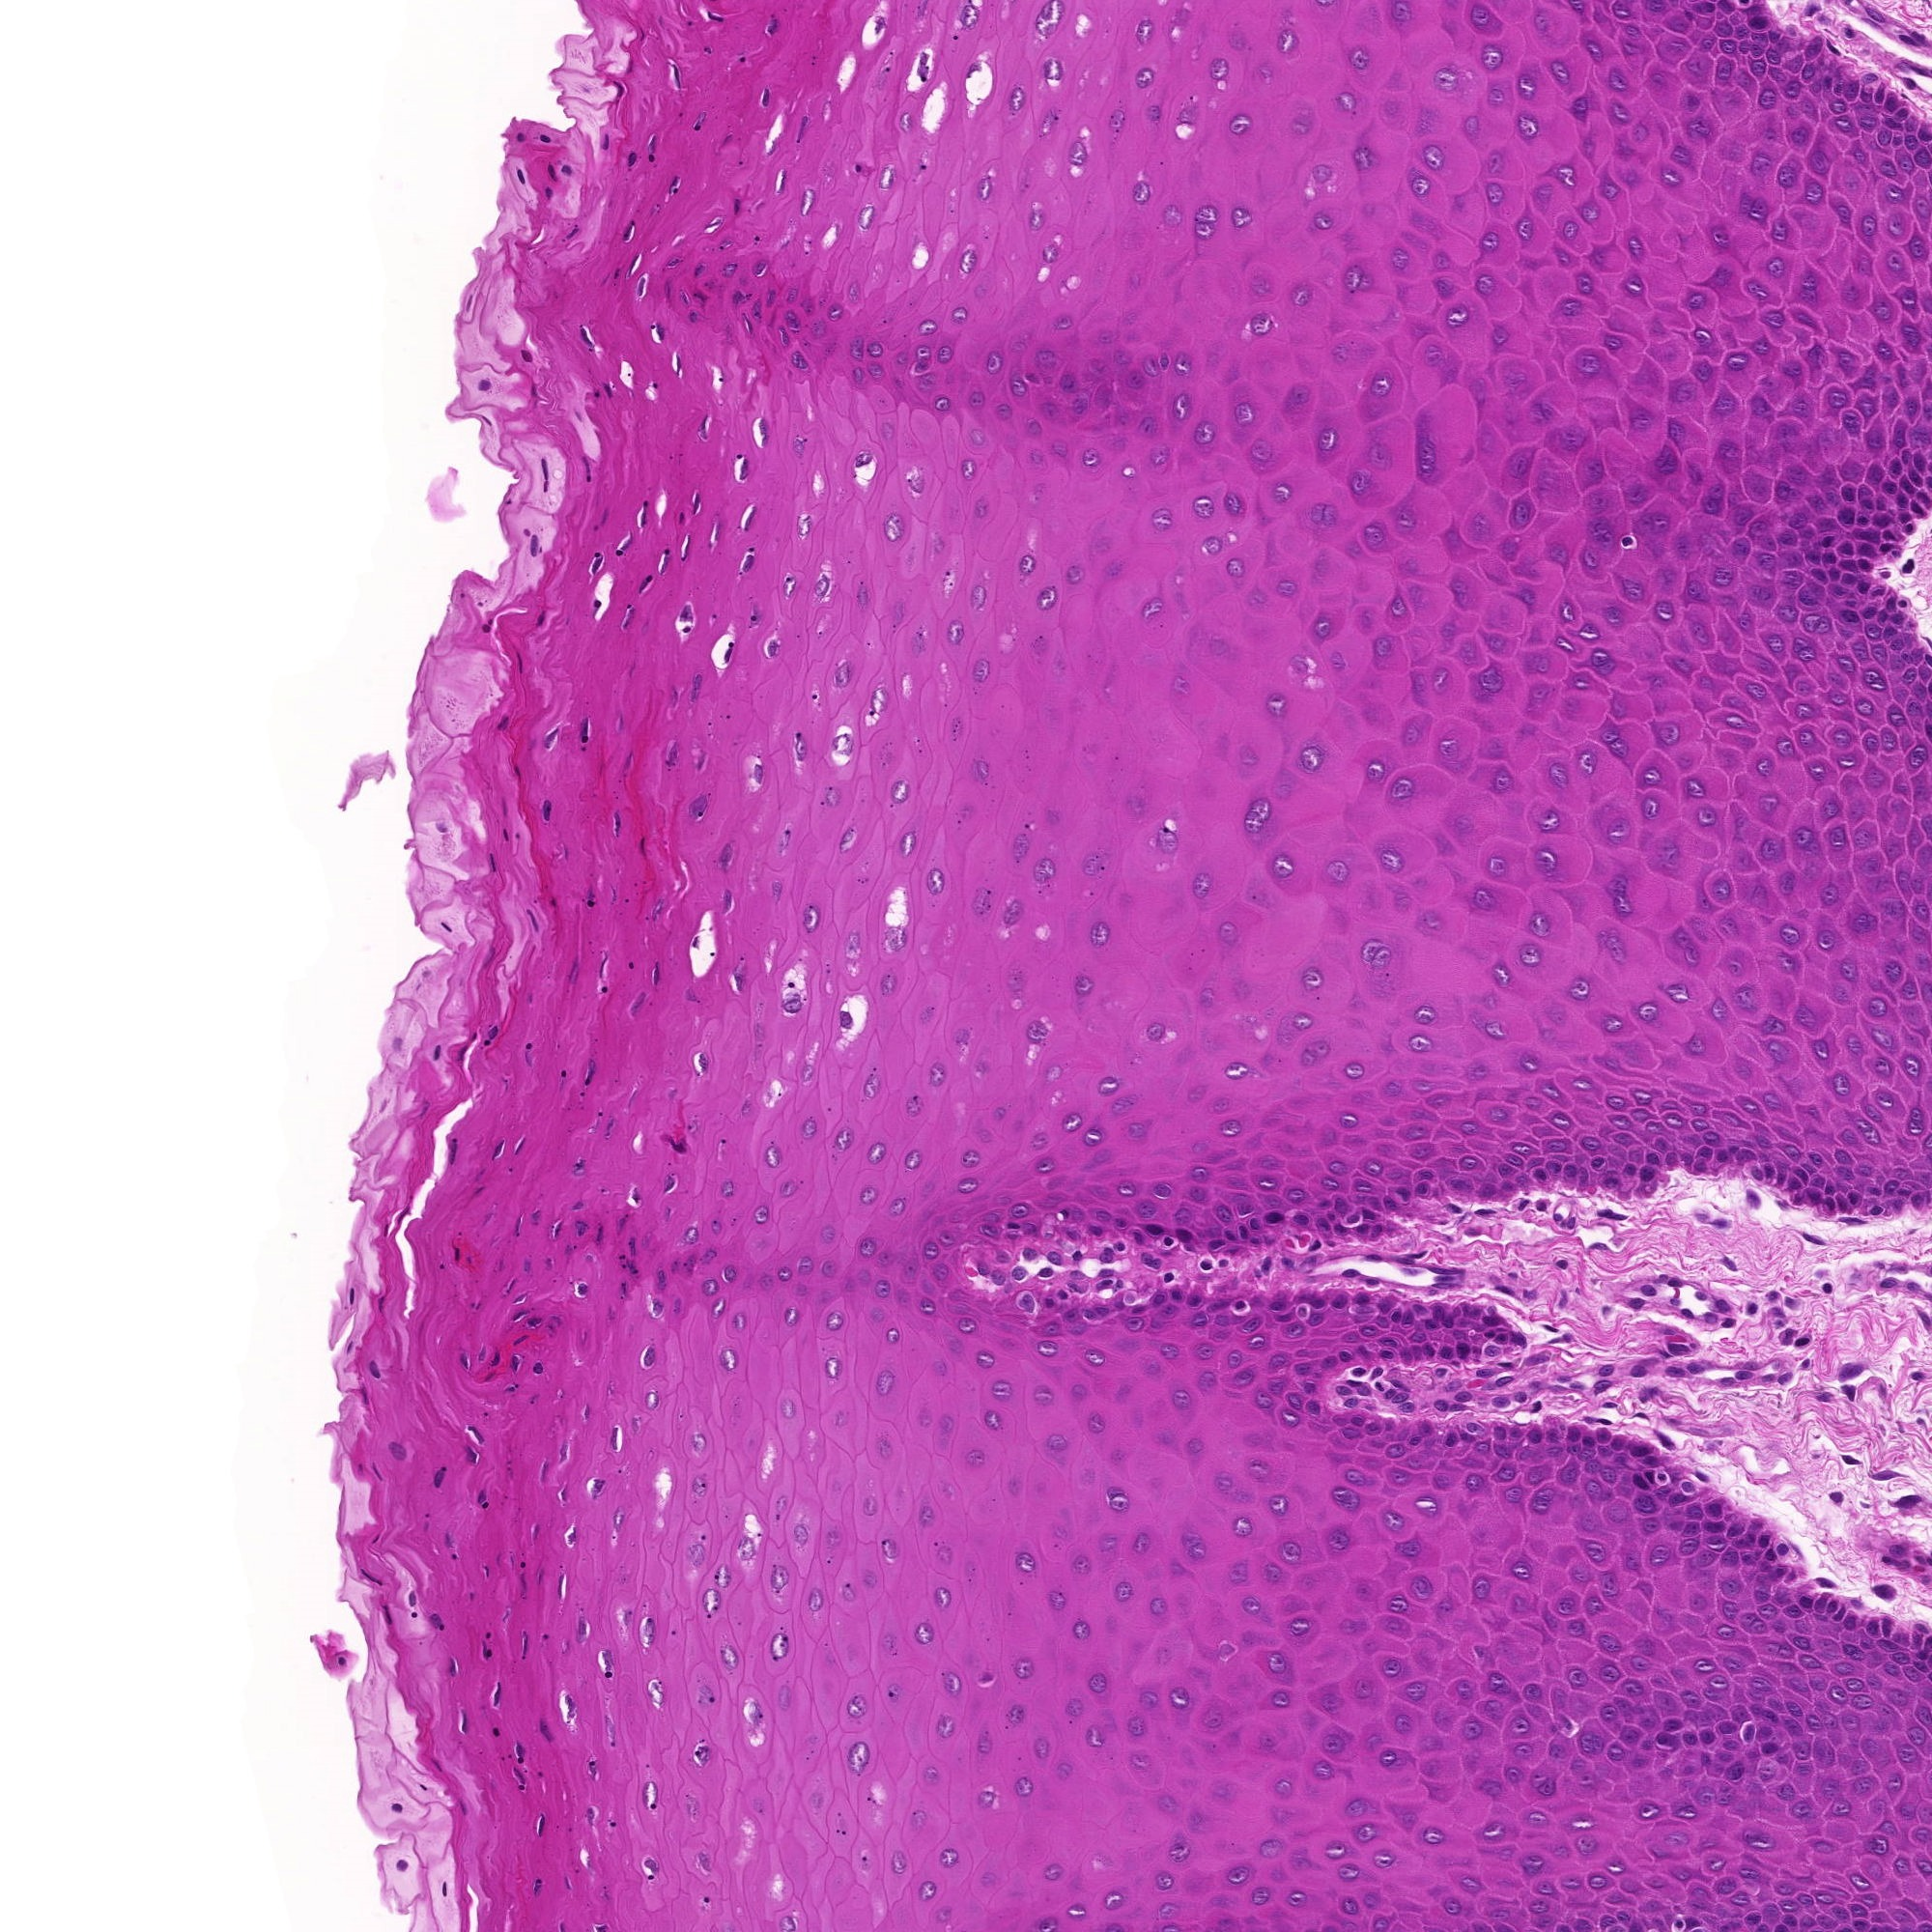epithelial: (1028, 855, 1062, 886), (1196, 1293, 1230, 1325), (1325, 1522, 1357, 1555), (1874, 115, 1905, 149), (1773, 536, 1805, 570), (1782, 1164, 1815, 1196), (1828, 1178, 1861, 1210), (1867, 591, 1902, 621), (448, 1345, 479, 1376), (364, 1286, 396, 1318), (446, 1790, 478, 1822), (906, 349, 938, 380), (625, 271, 656, 303), (518, 375, 550, 407), (487, 708, 518, 740), (828, 658, 860, 690), (920, 865, 952, 897), (892, 826, 924, 858), (685, 747, 717, 778), (867, 1272, 899, 1304), (481, 1132, 513, 1164), (711, 1173, 743, 1205), (768, 1258, 800, 1290), (633, 1341, 665, 1373), (527, 1307, 559, 1339), (711, 1346, 743, 1378), (895, 1143, 927, 1175), (793, 1111, 824, 1143), (863, 1138, 895, 1169), (932, 1840, 964, 1872), (741, 1698, 773, 1730), (543, 1569, 575, 1601), (870, 1527, 902, 1559), (685, 1468, 717, 1500), (761, 1564, 793, 1596), (548, 1477, 580, 1509), (1120, 364, 1152, 396), (1164, 389, 1196, 421), (1408, 428, 1440, 460), (1408, 414, 1440, 446), (1362, 364, 1394, 396), (1224, 110, 1256, 142), (1106, 402, 1138, 433), (1307, 432, 1339, 464), (1000, 81, 1031, 113), (1104, 343, 1136, 375), (1401, 669, 1433, 701), (1010, 548, 1042, 580), (1184, 870, 1215, 902), (1304, 550, 1336, 582), (1235, 794, 1267, 826), (1350, 603, 1382, 635), (1261, 690, 1293, 722), (1097, 554, 1129, 586), (1322, 648, 1353, 679), (1414, 1307, 1445, 1339), (1410, 1159, 1442, 1191), (1168, 1219, 1200, 1251), (1325, 1189, 1357, 1221), (1373, 1325, 1405, 1357), (1277, 1391, 1309, 1422), (1184, 1304, 1215, 1336), (1141, 1284, 1173, 1316), (1131, 1192, 1162, 1224), (1421, 1295, 1453, 1327), (1215, 1231, 1247, 1263), (1003, 1196, 1035, 1228), (1253, 1164, 1284, 1196), (1086, 1295, 1118, 1327), (1297, 1391, 1329, 1422), (1200, 1217, 1231, 1249), (1286, 1290, 1318, 1322), (1184, 1159, 1215, 1191), (1207, 1306, 1238, 1338), (1410, 1148, 1442, 1180), (1219, 1343, 1251, 1375), (1077, 1297, 1109, 1329), (1394, 1316, 1426, 1348), (1332, 1410, 1364, 1442), (1315, 1201, 1346, 1233), (1164, 1385, 1196, 1417), (1336, 1322, 1368, 1353), (1330, 1194, 1362, 1226), (1139, 1307, 1171, 1339), (1254, 1154, 1286, 1185), (1205, 1316, 1237, 1348), (1295, 1185, 1327, 1217), (1343, 1196, 1375, 1228), (1322, 1178, 1353, 1210), (1258, 1300, 1290, 1332), (1387, 1295, 1419, 1327), (1102, 1290, 1134, 1322), (1371, 1200, 1403, 1231), (1392, 1534, 1424, 1566), (1320, 1727, 1352, 1759), (1334, 1891, 1366, 1923), (1384, 1458, 1415, 1490), (1120, 1713, 1152, 1744), (1108, 1575, 1139, 1606), (1378, 1500, 1410, 1532), (1040, 1583, 1072, 1615), (1100, 1884, 1132, 1916), (1346, 1888, 1378, 1920), (1336, 1486, 1368, 1518), (1267, 1771, 1299, 1803), (1226, 1509, 1258, 1541), (1322, 1833, 1353, 1865), (1882, 421, 1914, 453), (1725, 16, 1757, 48), (1897, 453, 1928, 485), (1886, 444, 1918, 476), (1757, 39, 1789, 71), (1739, 34, 1771, 65), (1790, 55, 1822, 87), (1877, 124, 1909, 156), (1851, 106, 1882, 138), (1744, 331, 1776, 363), (1746, 389, 1778, 421), (1709, 433, 1741, 465), (1730, 184, 1762, 216), (1794, 265, 1826, 297), (1506, 449, 1537, 481), (1555, 290, 1587, 322), (1836, 278, 1868, 310), (1608, 134, 1640, 166), (1709, 387, 1741, 419), (1872, 152, 1904, 184), (1895, 113, 1927, 145), (1624, 402, 1656, 433), (1681, 460, 1713, 492), (1886, 359, 1918, 391), (1582, 239, 1614, 271), (1785, 391, 1817, 423), (1665, 136, 1697, 168), (1842, 138, 1874, 170), (1789, 303, 1821, 334), (1882, 205, 1914, 237), (1803, 50, 1835, 81), (1663, 30, 1695, 62), (1867, 92, 1898, 124), (1898, 464, 1930, 495), (1794, 92, 1826, 124), (1463, 5, 1495, 37), (1828, 103, 1859, 134), (1796, 62, 1828, 94), (1844, 361, 1875, 393), (1852, 203, 1884, 235), (1580, 37, 1612, 69), (1865, 287, 1897, 318), (1888, 370, 1920, 402), (1877, 343, 1909, 375), (1679, 94, 1711, 126), (1479, 76, 1511, 108), (1603, 78, 1635, 110), (1718, 9, 1750, 41), (1881, 373, 1913, 405), (1829, 460, 1861, 492), (1700, 57, 1732, 88), (1810, 525, 1842, 557), (1812, 510, 1844, 541), (1852, 596, 1884, 628), (1882, 603, 1914, 635), (1861, 488, 1893, 520), (1867, 600, 1898, 632), (1840, 518, 1872, 550), (1598, 596, 1629, 628), (1859, 573, 1891, 605), (1898, 738, 1930, 770), (1849, 557, 1881, 589), (1778, 543, 1810, 575), (1789, 823, 1821, 855), (1833, 510, 1865, 541), (1506, 497, 1537, 529), (1610, 524, 1642, 556), (1598, 720, 1629, 752), (1859, 499, 1891, 531), (1888, 625, 1920, 656), (1582, 511, 1614, 543), (1509, 580, 1541, 612), (1706, 874, 1737, 906), (1752, 527, 1783, 559), (1541, 536, 1573, 568), (1785, 511, 1817, 543), (1810, 922, 1842, 954), (1844, 633, 1875, 665), (1744, 508, 1776, 540), (1835, 586, 1867, 617), (1829, 720, 1861, 752), (1629, 764, 1661, 796), (1573, 547, 1605, 579), (1773, 922, 1805, 954), (1805, 607, 1836, 639), (1835, 743, 1867, 775), (1884, 771, 1916, 803), (1863, 635, 1895, 667), (1769, 729, 1801, 761), (1629, 506, 1661, 538), (1654, 833, 1686, 865), (1463, 511, 1495, 543), (1463, 885, 1495, 916), (1484, 768, 1516, 800), (1550, 596, 1582, 628), (1525, 906, 1557, 938), (1647, 722, 1679, 754), (1603, 881, 1635, 913), (1688, 886, 1720, 918), (1541, 761, 1573, 793), (1886, 699, 1918, 731), (1665, 637, 1697, 669), (1723, 807, 1755, 839), (1778, 589, 1810, 621), (1884, 678, 1916, 709), (1844, 527, 1875, 559), (1810, 487, 1842, 518), (1854, 906, 1886, 938), (1706, 490, 1737, 522), (1479, 736, 1511, 768), (1819, 513, 1851, 545), (1798, 506, 1829, 538), (1645, 511, 1677, 543), (1780, 727, 1812, 759), (1863, 522, 1895, 554), (1840, 722, 1872, 754), (1782, 575, 1813, 607), (1828, 740, 1859, 771), (1447, 1332, 1479, 1364), (1614, 1154, 1645, 1185), (1859, 1175, 1891, 1207), (1633, 1155, 1665, 1187), (1573, 1129, 1605, 1161), (1520, 1421, 1552, 1453), (1541, 1131, 1573, 1162), (1859, 1191, 1891, 1223), (1729, 1139, 1760, 1171), (1716, 1134, 1748, 1166), (1484, 1322, 1516, 1353), (1571, 1421, 1603, 1453), (1645, 1129, 1677, 1161), (1766, 1162, 1798, 1194), (1882, 1187, 1914, 1219), (1789, 1159, 1821, 1191), (1536, 1421, 1568, 1453), (1833, 1122, 1865, 1154), (1484, 1415, 1516, 1447), (1840, 1031, 1872, 1063), (1859, 993, 1891, 1024), (1798, 1154, 1829, 1185), (1626, 1086, 1658, 1118), (1897, 1047, 1928, 1079), (1454, 1111, 1486, 1143), (1854, 1109, 1886, 1141), (1580, 1136, 1612, 1168), (1463, 1054, 1495, 1086), (1619, 1139, 1651, 1171), (1688, 1116, 1720, 1148), (1672, 1132, 1704, 1164), (1684, 1093, 1716, 1125), (1750, 1139, 1782, 1171), (1502, 1154, 1534, 1185), (1842, 1161, 1874, 1192), (1539, 1077, 1571, 1109), (1718, 1143, 1750, 1175), (1895, 982, 1927, 1014), (1552, 1131, 1583, 1162), (1778, 1594, 1810, 1626), (1675, 1513, 1707, 1545), (1698, 1495, 1730, 1527), (1614, 1720, 1645, 1752), (1552, 1458, 1583, 1490), (1516, 1674, 1548, 1706), (1824, 1598, 1856, 1629), (1766, 1582, 1798, 1614), (1859, 1829, 1891, 1861), (1645, 1476, 1677, 1507), (1755, 1898, 1787, 1930), (1757, 1548, 1789, 1580), (1562, 1660, 1594, 1691), (1483, 1672, 1514, 1704), (1746, 1580, 1778, 1612), (1700, 1525, 1732, 1557), (1490, 1456, 1522, 1488), (1631, 1729, 1663, 1760), (1656, 1727, 1688, 1759), (1637, 1891, 1668, 1923), (1440, 1893, 1472, 1925), (1626, 1447, 1658, 1479), (1693, 1734, 1725, 1766), (1631, 1792, 1663, 1824), (1580, 1865, 1612, 1897), (1615, 1546, 1647, 1578), (1601, 1882, 1633, 1914), (1700, 1741, 1732, 1773), (1709, 1783, 1741, 1815), (1573, 1831, 1605, 1863), (1578, 1536, 1610, 1568), (1592, 1562, 1624, 1594), (1594, 1642, 1626, 1674), (1752, 1557, 1783, 1589), (1667, 1859, 1698, 1891), (1900, 1624, 1932, 1656), (1522, 1456, 1553, 1488), (1780, 1888, 1812, 1920), (1681, 1888, 1713, 1920), (1697, 1677, 1729, 1709), (1644, 1838, 1675, 1870), (1477, 1665, 1509, 1697), (1601, 1695, 1633, 1727), (1633, 1718, 1665, 1750), (1490, 1675, 1522, 1707), (1771, 1882, 1803, 1914), (1614, 1693, 1645, 1725), (1691, 1702, 1723, 1734), (1854, 1882, 1886, 1914), (1707, 1898, 1739, 1930), (1805, 1601, 1836, 1633), (1890, 1658, 1921, 1690), (1746, 1672, 1778, 1704), (1476, 1812, 1507, 1844), (1762, 1736, 1794, 1767), (1734, 1829, 1766, 1861), (1640, 1882, 1672, 1914), (1562, 1750, 1594, 1782), (1698, 1847, 1730, 1879), (1863, 1821, 1895, 1852), (1773, 1587, 1805, 1619), (1741, 1727, 1773, 1759), (1578, 1476, 1610, 1507), (1750, 1824, 1782, 1856), (1780, 1683, 1812, 1714), (1874, 1642, 1905, 1674), (1790, 1863, 1822, 1895), (1629, 1502, 1661, 1534), (1711, 1504, 1743, 1536), (1734, 1847, 1766, 1879), (1642, 1709, 1674, 1741), (1782, 1704, 1813, 1736), (1353, 396, 1387, 426), (1341, 1789, 1375, 1819), (1736, 18, 1766, 51), (1851, 579, 1881, 612), (1900, 492, 1930, 525), (1898, 692, 1928, 725), (1821, 538, 1854, 568), (1888, 860, 1918, 893), (1829, 823, 1863, 853), (1806, 534, 1836, 568), (1847, 1155, 1881, 1185), (1808, 1141, 1842, 1171), (1686, 1527, 1720, 1557), (460, 1290, 490, 1322), (929, 387, 959, 419), (722, 281, 754, 311), (685, 280, 715, 311), (929, 338, 959, 370), (819, 295, 849, 327), (842, 333, 874, 363), (755, 280, 786, 311), (856, 334, 888, 364), (683, 264, 713, 295), (686, 410, 718, 441), (842, 359, 872, 391), (860, 343, 890, 375), (793, 290, 823, 322), (617, 246, 648, 278), (748, 414, 780, 444), (658, 246, 690, 276), (787, 110, 819, 140), (860, 354, 890, 386), (791, 188, 823, 218), (915, 345, 947, 375), (777, 292, 807, 324), (770, 315, 800, 347), (681, 794, 713, 824), (743, 755, 775, 786), (711, 885, 743, 915), (794, 901, 826, 931), (504, 646, 534, 678), (702, 513, 732, 545), (642, 893, 674, 924), (681, 667, 713, 697), (941, 617, 971, 649), (773, 566, 805, 596), (479, 847, 510, 879), (715, 1258, 747, 1288), (911, 1288, 941, 1320), (518, 1306, 548, 1338), (915, 1233, 945, 1265), (812, 1253, 842, 1284), (672, 1247, 702, 1279), (895, 1253, 925, 1284), (540, 1306, 570, 1338), (932, 1221, 962, 1253), (694, 1272, 724, 1304), (541, 1214, 571, 1246), (775, 1299, 805, 1330), (695, 1237, 725, 1269), (828, 1123, 860, 1154), (594, 1109, 625, 1141), (939, 1330, 971, 1361), (817, 1352, 847, 1384), (817, 1307, 849, 1338), (757, 1139, 789, 1169), (849, 1180, 881, 1210), (676, 1221, 708, 1251), (925, 1224, 955, 1256), (527, 1808, 557, 1840), (522, 1870, 552, 1902), (909, 1499, 939, 1530), (566, 1612, 596, 1644), (508, 1568, 538, 1599), (524, 1560, 556, 1591), (688, 1845, 720, 1875), (927, 1709, 959, 1739), (909, 1617, 941, 1647), (927, 1580, 959, 1610), (529, 1454, 561, 1484), (1054, 366, 1085, 398), (1063, 391, 1095, 421), (1033, 393, 1065, 423), (1343, 46, 1375, 76), (1408, 442, 1438, 474), (1005, 366, 1037, 396), (1139, 99, 1171, 129), (1184, 418, 1215, 448), (1307, 205, 1339, 235), (1088, 380, 1118, 412), (1123, 175, 1154, 207), (1016, 361, 1047, 391), (1288, 280, 1318, 311), (1244, 304, 1276, 334), (1141, 349, 1173, 379), (1309, 419, 1341, 449), (1226, 196, 1258, 226), (1410, 453, 1442, 483), (1286, 108, 1318, 138), (1384, 244, 1415, 274), (1341, 464, 1373, 494), (1083, 356, 1115, 386), (1364, 437, 1394, 469), (1063, 142, 1095, 172), (1276, 387, 1306, 419), (1152, 345, 1184, 375), (1368, 632, 1398, 663), (1387, 499, 1419, 529), (1361, 518, 1392, 548), (1380, 587, 1412, 617), (1361, 754, 1392, 784), (1083, 916, 1115, 947), (1189, 490, 1221, 520), (1028, 580, 1060, 610), (996, 899, 1026, 931), (1290, 747, 1320, 778), (1398, 717, 1428, 748), (1414, 904, 1444, 936), (1215, 552, 1247, 582), (1353, 697, 1384, 729), (962, 658, 994, 688), (1196, 527, 1228, 557), (1235, 805, 1265, 837), (1024, 626, 1054, 658), (1385, 883, 1415, 915), (1203, 630, 1235, 660), (1352, 1200, 1384, 1230), (1214, 1221, 1246, 1251), (1238, 1208, 1269, 1240), (1391, 1302, 1422, 1332), (1286, 1200, 1316, 1231), (1230, 1215, 1260, 1247), (1263, 1290, 1293, 1322), (1325, 1286, 1355, 1318), (1375, 1189, 1407, 1219), (1200, 1230, 1231, 1260), (1380, 1300, 1412, 1330), (975, 1210, 1005, 1242), (1307, 1208, 1339, 1238), (1414, 1334, 1444, 1366), (1346, 1169, 1378, 1200), (1146, 1173, 1177, 1205), (1283, 1178, 1313, 1210), (1210, 1200, 1240, 1231), (1286, 1353, 1318, 1384), (1180, 1284, 1210, 1316), (1231, 1359, 1261, 1391), (1391, 1339, 1422, 1369), (1401, 1419, 1433, 1449), (1205, 1288, 1235, 1320), (1353, 1315, 1384, 1346), (998, 1210, 1028, 1242), (1369, 1290, 1399, 1322), (1403, 1299, 1433, 1330), (1053, 1198, 1083, 1230), (1182, 1180, 1214, 1210), (1325, 1200, 1355, 1231), (1028, 1148, 1058, 1180), (1054, 1300, 1086, 1330), (1106, 1207, 1136, 1238), (1371, 1336, 1401, 1368), (1261, 1371, 1293, 1401), (1357, 1414, 1389, 1444), (1021, 1017, 1053, 1047), (1405, 1311, 1437, 1341), (1313, 1346, 1343, 1378), (1086, 1200, 1118, 1230), (1338, 1203, 1368, 1235), (1348, 1408, 1380, 1438), (1215, 1194, 1247, 1224), (1279, 1311, 1309, 1343), (1348, 1189, 1378, 1221), (1408, 1138, 1440, 1168), (1240, 1295, 1270, 1327), (1348, 1300, 1378, 1332), (1348, 1336, 1378, 1368), (1403, 1336, 1435, 1366), (1017, 1214, 1047, 1246), (1214, 1208, 1244, 1240), (1293, 1371, 1325, 1401), (1012, 1286, 1042, 1318), (1376, 1074, 1408, 1104), (1118, 1304, 1148, 1336), (1191, 1364, 1223, 1394), (1359, 1154, 1389, 1185), (1122, 1115, 1152, 1146), (1115, 1173, 1146, 1203), (1168, 1200, 1198, 1231), (1079, 1407, 1111, 1437), (1332, 1106, 1362, 1138), (1295, 1295, 1327, 1325), (1401, 1116, 1431, 1148), (1256, 1376, 1286, 1408), (1361, 1194, 1392, 1224), (1334, 1169, 1364, 1201), (1063, 1376, 1093, 1408), (984, 1375, 1016, 1405), (1300, 1203, 1332, 1233), (1095, 1069, 1127, 1099), (1079, 1116, 1111, 1146), (1288, 1362, 1320, 1392), (1293, 1208, 1325, 1238), (1286, 1378, 1316, 1410), (1313, 1122, 1343, 1154), (1256, 1175, 1286, 1207), (1286, 1304, 1316, 1336), (975, 1403, 1005, 1435), (1387, 1311, 1417, 1343), (1007, 1212, 1039, 1242), (1056, 1104, 1086, 1136), (1224, 1302, 1256, 1332), (1277, 1286, 1309, 1316), (1187, 1224, 1217, 1256), (1361, 1318, 1392, 1348), (1223, 1054, 1254, 1085), (1279, 1192, 1309, 1224), (1304, 1192, 1334, 1224), (1371, 1412, 1403, 1442), (1205, 1192, 1235, 1224), (1376, 1651, 1408, 1681), (1403, 1675, 1433, 1707), (1246, 1881, 1277, 1911), (1284, 1614, 1315, 1645), (1387, 1706, 1417, 1737), (1083, 1667, 1115, 1697), (1276, 1534, 1306, 1566), (1001, 1697, 1033, 1727), (1265, 1683, 1297, 1713), (1281, 1882, 1311, 1914), (1256, 1559, 1288, 1589), (1127, 1525, 1157, 1557), (1162, 1831, 1192, 1863), (1164, 1681, 1196, 1711), (1348, 1674, 1378, 1706), (1065, 1614, 1095, 1645), (1355, 1882, 1385, 1914), (1008, 1545, 1039, 1576), (1417, 1766, 1447, 1798), (1341, 1463, 1371, 1495), (1261, 1490, 1293, 1520), (1182, 1803, 1212, 1835), (1099, 1477, 1129, 1509), (1392, 1801, 1422, 1833), (1010, 1654, 1040, 1686), (1148, 1865, 1178, 1897), (1223, 1559, 1254, 1589), (1005, 1771, 1037, 1801), (1307, 1753, 1339, 1783), (1419, 1821, 1449, 1852), (1233, 1589, 1265, 1619), (1419, 1729, 1451, 1759), (1359, 1725, 1389, 1757), (1207, 1467, 1237, 1499), (968, 1729, 998, 1760), (1063, 1895, 1093, 1927), (1378, 1608, 1408, 1640), (1079, 1721, 1111, 1752), (1047, 1753, 1079, 1783), (1253, 1829, 1284, 1859), (1208, 1778, 1240, 1808), (1024, 1734, 1056, 1764), (1881, 453, 1911, 485), (1875, 106, 1905, 138), (1897, 389, 1927, 421), (1859, 458, 1891, 488), (1851, 366, 1882, 396), (1875, 88, 1905, 120), (1893, 318, 1923, 350), (1652, 446, 1684, 476), (1798, 34, 1829, 64), (1895, 126, 1927, 156), (1762, 303, 1794, 333), (1868, 334, 1898, 366), (1835, 405, 1865, 437), (1799, 340, 1831, 370), (1835, 74, 1867, 104), (1829, 343, 1861, 373), (1688, 356, 1718, 387), (1785, 119, 1815, 150), (1881, 96, 1911, 127), (1759, 19, 1789, 51), (1582, 453, 1612, 485), (1875, 384, 1907, 414), (1527, 395, 1559, 425), (1675, 87, 1707, 117), (1723, 350, 1755, 380), (1858, 426, 1888, 458), (1895, 278, 1925, 310), (1706, 260, 1737, 290), (1773, 159, 1803, 191), (1856, 359, 1886, 391), (1898, 444, 1930, 474), (1660, 414, 1691, 444), (1686, 111, 1718, 142), (1865, 78, 1895, 110), (1851, 391, 1881, 423), (1821, 71, 1851, 103), (1601, 64, 1633, 94), (1483, 322, 1514, 352), (1748, 19, 1778, 51), (1663, 9, 1693, 41), (1642, 64, 1672, 96), (1709, 55, 1739, 87), (1898, 228, 1928, 260), (1821, 382, 1851, 414), (1663, 375, 1695, 405), (1851, 214, 1882, 244), (1677, 285, 1709, 315), (1564, 90, 1594, 122), (1893, 288, 1925, 318), (1803, 142, 1835, 172), (1891, 149, 1921, 180), (1767, 214, 1798, 246), (1736, 195, 1767, 225), (1886, 414, 1918, 444), (1828, 80, 1858, 111), (1897, 306, 1927, 338), (1831, 111, 1863, 142), (1596, 326, 1626, 357), (1881, 249, 1913, 280), (1780, 48, 1810, 80), (1898, 324, 1928, 356), (1799, 172, 1829, 203), (1691, 28, 1721, 60), (1472, 226, 1504, 257), (1511, 65, 1543, 96), (1897, 421, 1928, 451), (1759, 58, 1790, 88), (1849, 90, 1881, 120), (1759, 253, 1790, 283), (1792, 274, 1822, 306), (1467, 269, 1497, 301), (1771, 32, 1803, 62), (1743, 150, 1775, 180), (1573, 343, 1603, 375), (1658, 425, 1688, 456), (1736, 57, 1767, 87), (1897, 400, 1927, 432), (1858, 97, 1888, 129), (1902, 120, 1932, 152), (1867, 122, 1898, 152), (1844, 398, 1874, 430), (1844, 111, 1875, 142), (1799, 182, 1829, 214), (1868, 453, 1898, 485), (1713, 44, 1743, 76), (1442, 306, 1474, 336), (1633, 361, 1665, 391), (1748, 143, 1780, 173), (1801, 71, 1831, 103), (1465, 380, 1495, 412), (1744, 191, 1776, 221), (1750, 57, 1782, 87), (1617, 14, 1647, 46), (1882, 170, 1913, 202), (1698, 267, 1730, 297), (1861, 366, 1893, 396), (1750, 35, 1780, 67), (1483, 44, 1514, 74), (1707, 226, 1737, 258), (1545, 57, 1575, 88), (1654, 161, 1686, 191), (1578, 352, 1610, 382), (1835, 354, 1865, 386), (1769, 464, 1801, 494), (1805, 152, 1835, 184), (1660, 451, 1691, 481), (1716, 345, 1746, 377), (1752, 370, 1783, 400), (1773, 57, 1803, 88), (1810, 343, 1842, 373), (1790, 41, 1821, 73), (1548, 159, 1578, 191), (1546, 241, 1578, 271), (1442, 188, 1474, 218), (1886, 384, 1918, 414), (1748, 5, 1778, 37), (1847, 249, 1877, 281), (1805, 129, 1835, 161), (1711, 446, 1741, 478), (1651, 435, 1681, 467), (1840, 462, 1872, 492), (1651, 34, 1683, 64), (1888, 311, 1918, 343), (1813, 541, 1844, 573), (1867, 506, 1897, 538), (1831, 501, 1863, 531), (1852, 520, 1884, 550), (1847, 504, 1879, 534), (1833, 548, 1863, 580), (1886, 485, 1916, 517), (1870, 531, 1902, 561), (1849, 545, 1881, 575), (1851, 488, 1882, 518), (1798, 541, 1829, 571), (1803, 559, 1835, 589), (1833, 564, 1865, 594), (1872, 518, 1902, 550), (1874, 616, 1904, 648), (1822, 573, 1852, 605), (1794, 584, 1824, 616), (1888, 502, 1920, 533), (1831, 479, 1863, 510), (1697, 487, 1729, 517), (1895, 658, 1925, 690), (1859, 667, 1891, 697), (1815, 793, 1847, 823), (1587, 646, 1619, 676), (1877, 697, 1909, 727), (1729, 501, 1760, 531), (1780, 506, 1812, 536), (1856, 529, 1886, 561), (1881, 706, 1913, 736), (1856, 727, 1886, 759), (1776, 564, 1808, 594), (1493, 533, 1523, 564), (1706, 561, 1737, 591), (1729, 605, 1760, 635), (1651, 561, 1683, 591), (1679, 580, 1711, 610), (1562, 665, 1594, 695), (1879, 893, 1909, 925), (1859, 617, 1890, 649), (1813, 878, 1844, 909), (1856, 849, 1886, 881), (1617, 575, 1649, 605), (1884, 646, 1914, 678), (1621, 481, 1652, 511), (1748, 543, 1778, 575), (1442, 575, 1472, 607), (1757, 623, 1787, 655), (1649, 596, 1679, 628), (1750, 649, 1782, 679), (1665, 651, 1697, 681), (1789, 722, 1819, 754), (1882, 633, 1913, 665), (1587, 520, 1617, 552), (1663, 922, 1695, 952), (1679, 773, 1709, 805), (1874, 499, 1904, 531), (1792, 697, 1822, 729), (1897, 869, 1928, 899), (1573, 745, 1605, 775), (1575, 612, 1605, 644), (1711, 653, 1743, 683), (1748, 752, 1780, 782), (1633, 794, 1665, 824), (1835, 575, 1865, 607), (1833, 612, 1863, 644), (1794, 635, 1824, 667), (1805, 495, 1835, 527), (1729, 846, 1760, 876), (1757, 789, 1787, 821), (1603, 810, 1633, 842), (1831, 699, 1861, 731), (1822, 502, 1854, 533), (1583, 488, 1615, 518), (1890, 612, 1921, 642), (1821, 665, 1852, 695), (1599, 731, 1631, 761), (1767, 655, 1799, 685), (1767, 481, 1799, 511), (1782, 642, 1812, 674), (1897, 674, 1928, 704), (1851, 821, 1882, 851), (1882, 793, 1914, 823), (1884, 495, 1914, 527), (1833, 770, 1865, 800), (1829, 524, 1859, 556), (1467, 676, 1499, 706), (1706, 648, 1736, 679), (1867, 580, 1897, 612), (1484, 849, 1514, 881), (1713, 743, 1744, 773), (1787, 541, 1819, 571), (1863, 867, 1895, 897), (1725, 508, 1757, 538), (1789, 501, 1821, 531), (1472, 879, 1502, 911), (1555, 692, 1587, 722), (1895, 731, 1927, 761), (1766, 676, 1796, 708), (1900, 918, 1930, 950), (1686, 490, 1718, 520), (1886, 830, 1918, 860), (1824, 598, 1856, 628), (1821, 681, 1851, 713), (1454, 637, 1484, 669), (1580, 630, 1610, 662), (1877, 479, 1909, 510), (1674, 931, 1704, 962), (1888, 713, 1918, 745), (1812, 564, 1844, 594), (1640, 534, 1670, 566), (1592, 925, 1624, 955), (1608, 895, 1638, 927), (1548, 630, 1580, 660), (1789, 685, 1819, 717), (1592, 517, 1624, 547), (1792, 607, 1824, 637), (1511, 938, 1543, 968), (1851, 621, 1881, 653), (1865, 656, 1895, 688), (1813, 1173, 1845, 1203), (1875, 1173, 1907, 1203), (1582, 1146, 1612, 1178), (1799, 1180, 1829, 1212), (1836, 1184, 1867, 1215), (1557, 1154, 1587, 1185), (1451, 1299, 1483, 1329), (1476, 1318, 1506, 1350), (1539, 1152, 1571, 1182), (1444, 1169, 1476, 1200), (1690, 1138, 1720, 1169), (1557, 1421, 1589, 1451), (1637, 1143, 1668, 1173), (1697, 1123, 1729, 1154), (1828, 1189, 1859, 1219), (1757, 1157, 1789, 1187), (1805, 1031, 1835, 1063), (1677, 1030, 1707, 1062), (1677, 1125, 1709, 1155), (1587, 1421, 1619, 1451), (1757, 1010, 1789, 1040), (1525, 1159, 1555, 1191), (1872, 1083, 1904, 1113), (1831, 1157, 1861, 1189), (1596, 1164, 1626, 1196), (1472, 1175, 1502, 1207), (1898, 1104, 1930, 1134), (1826, 1141, 1858, 1171), (1566, 1162, 1598, 1192), (1672, 1143, 1704, 1173), (1491, 1171, 1523, 1201), (1465, 1309, 1497, 1339), (1778, 1138, 1810, 1168), (1787, 998, 1819, 1028), (1746, 1125, 1776, 1157), (1456, 1304, 1486, 1336), (1656, 1143, 1686, 1175), (1486, 1100, 1518, 1131), (1890, 1159, 1920, 1191), (1789, 1139, 1819, 1171), (1686, 1148, 1716, 1180), (1444, 1318, 1474, 1350), (1511, 1047, 1543, 1077), (1767, 1152, 1798, 1184), (1543, 1100, 1575, 1131), (1601, 1422, 1633, 1453), (1629, 1148, 1661, 1178), (1780, 1173, 1810, 1205), (1451, 1421, 1481, 1453), (1456, 1415, 1486, 1447), (1458, 1318, 1490, 1348), (1875, 1028, 1905, 1060), (1824, 1171, 1854, 1203), (1702, 1132, 1734, 1162), (1798, 1106, 1828, 1138), (1737, 1090, 1767, 1122), (1879, 1164, 1911, 1194), (1461, 1336, 1493, 1366), (1897, 996, 1927, 1028), (1877, 961, 1909, 991), (1587, 1152, 1617, 1184), (1605, 1104, 1637, 1134), (1449, 1307, 1479, 1339), (1842, 1175, 1872, 1207), (1550, 1111, 1580, 1143), (1845, 1185, 1877, 1215), (1762, 1040, 1794, 1070), (1803, 1187, 1833, 1219), (1752, 1150, 1783, 1180), (1704, 994, 1736, 1024), (1773, 1125, 1803, 1157), (1683, 1109, 1713, 1141), (1824, 980, 1856, 1010), (1858, 1164, 1888, 1196), (1594, 1047, 1624, 1079), (1867, 1024, 1897, 1056), (1665, 1106, 1695, 1138), (1895, 1164, 1927, 1194), (1640, 1111, 1672, 1141), (1548, 1138, 1578, 1169), (1649, 1723, 1679, 1755), (1656, 1709, 1688, 1739), (1730, 1527, 1762, 1557), (1674, 1723, 1706, 1753), (1732, 1543, 1764, 1573), (1663, 1483, 1693, 1514), (1718, 1516, 1750, 1546), (1720, 1757, 1752, 1787), (1677, 1497, 1709, 1527), (1713, 1713, 1743, 1744), (1755, 1702, 1787, 1732), (1872, 1629, 1904, 1660), (1835, 1635, 1865, 1667), (1750, 1716, 1780, 1748), (1605, 1444, 1635, 1476), (1856, 1612, 1888, 1642), (1675, 1530, 1707, 1560), (1755, 1539, 1787, 1569), (1824, 1898, 1856, 1928), (1714, 1543, 1746, 1573), (1842, 1895, 1874, 1925), (1552, 1587, 1582, 1619), (1709, 1870, 1741, 1900), (1737, 1900, 1769, 1930), (1785, 1626, 1815, 1658), (1881, 1626, 1913, 1656), (1805, 1589, 1836, 1619), (1467, 1571, 1499, 1601), (1835, 1615, 1865, 1647), (1635, 1444, 1665, 1476), (1573, 1725, 1603, 1757), (1622, 1437, 1652, 1468), (1778, 1695, 1810, 1725), (1461, 1713, 1491, 1744), (1734, 1859, 1766, 1890), (1877, 1654, 1907, 1686), (1739, 1822, 1771, 1852), (1516, 1852, 1548, 1882), (1813, 1591, 1844, 1622), (1631, 1631, 1663, 1661), (1592, 1658, 1624, 1688), (1720, 1525, 1750, 1557), (1541, 1734, 1571, 1766), (1619, 1674, 1651, 1704), (1789, 1794, 1819, 1826), (1746, 1525, 1778, 1555), (1497, 1759, 1529, 1789), (1744, 1695, 1775, 1727), (1635, 1509, 1665, 1541), (1633, 1483, 1663, 1514), (1608, 1900, 1640, 1930), (1562, 1612, 1594, 1642), (1658, 1495, 1688, 1527), (1624, 1746, 1654, 1778), (1658, 1509, 1690, 1539), (1767, 1631, 1798, 1663), (1458, 1467, 1488, 1499), (1633, 1707, 1665, 1737), (1688, 1647, 1718, 1679), (1633, 1467, 1663, 1499), (1683, 1587, 1714, 1617), (1787, 1711, 1819, 1741), (1592, 1458, 1624, 1488), (1474, 1771, 1504, 1803), (1858, 1624, 1888, 1656), (1614, 1467, 1645, 1497), (1601, 1737, 1631, 1769), (1477, 1695, 1507, 1727), (1746, 1736, 1776, 1767), (1881, 1766, 1911, 1798), (1564, 1589, 1596, 1619), (1767, 1743, 1798, 1775), (1898, 1651, 1928, 1683), (1790, 1886, 1822, 1916), (1852, 1619, 1882, 1651), (1805, 1737, 1836, 1767), (1829, 1792, 1859, 1824), (1591, 1479, 1621, 1511), (1534, 1605, 1564, 1637), (1801, 1668, 1833, 1698), (1891, 1897, 1921, 1928), (1576, 1451, 1608, 1481), (1642, 1468, 1672, 1500), (1863, 1902, 1895, 1932), (1525, 1891, 1555, 1923), (1601, 1851, 1633, 1881), (1842, 1631, 1874, 1661), (1737, 1739, 1767, 1771), (1790, 1875, 1821, 1907), (1798, 1709, 1829, 1739), (1651, 1686, 1683, 1716), (1713, 1752, 1744, 1782), (1691, 1541, 1721, 1573), (1783, 1734, 1815, 1764), (1534, 1875, 1566, 1905), (1859, 1644, 1890, 1675), (1737, 1518, 1767, 1550), (1686, 1511, 1718, 1541), (1759, 1688, 1789, 1720), (1674, 1900, 1706, 1930), (1720, 1718, 1752, 1748), (1652, 1486, 1684, 1516), (1690, 1491, 1720, 1523), (1865, 1711, 1897, 1741), (1626, 1737, 1658, 1767), (1608, 1743, 1640, 1773), (1573, 1766, 1603, 1798), (1456, 1868, 1488, 1898), (1589, 1437, 1621, 1467), (1736, 1706, 1766, 1737), (1642, 1484, 1672, 1516), (1766, 1897, 1798, 1927), (1844, 1865, 1875, 1895), (1677, 1702, 1709, 1732), (1729, 1637, 1760, 1667), (1651, 1461, 1681, 1493), (1821, 1605, 1851, 1637), (1801, 1882, 1833, 1913), (1557, 1868, 1589, 1898), (1545, 1683, 1575, 1714), (1766, 1594, 1796, 1626), (1769, 1874, 1801, 1904), (1651, 1757, 1683, 1787), (1591, 1900, 1622, 1930), (1672, 1755, 1704, 1785), (1598, 1451, 1629, 1481), (1789, 1672, 1819, 1704), (1849, 1890, 1881, 1920), (1890, 1621, 1921, 1651), (1789, 1601, 1819, 1633), (1847, 1688, 1877, 1720), (1484, 1898, 1514, 1930), (1670, 1479, 1702, 1509), (1621, 1483, 1652, 1513), (1454, 1445, 1484, 1477), (1594, 1573, 1626, 1603), (1601, 1502, 1631, 1534), (1752, 1591, 1782, 1622), (1568, 1898, 1598, 1930), (1467, 1635, 1497, 1667), (1693, 1829, 1725, 1859), (1612, 1453, 1642, 1484), (1796, 1895, 1826, 1927), (1663, 1900, 1693, 1932), (1571, 1507, 1601, 1539), (1527, 1882, 1559, 1913), (1649, 1599, 1679, 1631), (1851, 1874, 1881, 1905), (1842, 1670, 1874, 1700), (1867, 1836, 1898, 1867), (1564, 1560, 1594, 1592), (1571, 1442, 1601, 1474), (1683, 1879, 1714, 1909), (1679, 1734, 1709, 1766), (1663, 1658, 1693, 1690), (1506, 1674, 1537, 1704), (1610, 1891, 1640, 1923), (1725, 1534, 1757, 1564), (1865, 1621, 1895, 1652), (1566, 1803, 1598, 1833), (1812, 1631, 1844, 1661), (1539, 1437, 1571, 1467), (1587, 1453, 1617, 1484), (1589, 1736, 1621, 1766), (1859, 759, 1888, 793), (409, 1093, 439, 1123), (462, 1175, 492, 1205), (437, 1652, 467, 1683), (449, 1707, 479, 1737), (658, 168, 688, 198), (784, 345, 814, 375), (743, 251, 773, 281), (653, 274, 683, 304), (602, 258, 632, 288), (717, 253, 747, 283), (847, 446, 878, 476), (803, 313, 833, 343), (768, 166, 798, 196), (709, 842, 740, 872), (656, 743, 686, 773), (847, 580, 878, 610), (809, 570, 839, 600), (589, 501, 619, 531), (658, 679, 688, 709), (830, 1003, 860, 1033), (851, 1230, 881, 1260), (748, 1200, 778, 1230), (925, 1258, 955, 1288), (623, 989, 653, 1019), (791, 1251, 821, 1281), (688, 1047, 718, 1077), (870, 1242, 901, 1272), (814, 1219, 844, 1249), (750, 1265, 780, 1295), (686, 1737, 717, 1767), (510, 1629, 540, 1660), (603, 1506, 633, 1536), (522, 1516, 552, 1546), (839, 1688, 869, 1718), (837, 1736, 867, 1766), (916, 1874, 947, 1904), (1281, 382, 1311, 412), (989, 395, 1019, 425), (1132, 409, 1162, 439), (961, 384, 991, 414), (1030, 340, 1060, 370), (1129, 62, 1159, 92), (1169, 347, 1200, 377), (1348, 142, 1378, 172), (1017, 412, 1047, 442), (1185, 207, 1215, 237), (1047, 308, 1077, 338), (1346, 260, 1376, 290), (1076, 444, 1106, 474), (1127, 14, 1157, 44), (1269, 25, 1299, 55), (1201, 51, 1231, 81), (1401, 165, 1431, 195), (1407, 315, 1437, 345), (1224, 395, 1254, 425), (1419, 341, 1449, 372), (1246, 271, 1276, 301), (1307, 499, 1338, 529), (1307, 614, 1338, 644), (1387, 773, 1417, 803), (1217, 490, 1247, 520), (1056, 559, 1086, 589), (1359, 938, 1389, 968), (1394, 554, 1424, 584), (1371, 837, 1401, 867), (1338, 534, 1368, 564), (1265, 856, 1295, 886), (964, 494, 994, 524), (1249, 805, 1279, 835), (1389, 1178, 1419, 1208), (1407, 1173, 1437, 1203), (1238, 1307, 1269, 1338), (1346, 1214, 1376, 1244), (1313, 1189, 1343, 1219), (1269, 1302, 1299, 1332), (1325, 1214, 1355, 1244), (1230, 1194, 1260, 1224), (1122, 1297, 1152, 1327), (1207, 1224, 1237, 1254), (1263, 1346, 1293, 1376), (1403, 1322, 1433, 1352), (1154, 1295, 1184, 1325), (1371, 1302, 1401, 1332), (1235, 1223, 1265, 1253), (1037, 1313, 1067, 1343), (1359, 1185, 1389, 1215), (1189, 1336, 1219, 1366), (1318, 1169, 1348, 1200), (1364, 1309, 1394, 1339), (1338, 1419, 1368, 1449), (1244, 1329, 1274, 1359), (1065, 971, 1095, 1001), (1215, 1109, 1246, 1139), (1277, 1403, 1307, 1433), (1256, 1189, 1286, 1219), (1154, 1336, 1184, 1366), (1322, 1152, 1352, 1182), (1141, 1017, 1171, 1047), (1384, 1161, 1414, 1191), (968, 1343, 998, 1373), (1338, 1054, 1368, 1085), (1410, 1001, 1440, 1031), (1341, 1403, 1371, 1433), (980, 1203, 1010, 1233), (1295, 1039, 1325, 1069), (1226, 1185, 1256, 1215), (1242, 1286, 1272, 1316), (1191, 984, 1221, 1014), (1396, 1329, 1426, 1359), (1037, 1185, 1067, 1215), (1223, 1858, 1253, 1888), (1384, 1589, 1414, 1619), (1407, 1569, 1437, 1599), (1253, 1729, 1283, 1759), (1376, 1743, 1407, 1773), (1329, 1483, 1359, 1513), (1265, 1647, 1295, 1677), (1348, 1575, 1378, 1605), (1339, 1612, 1369, 1642), (1178, 1532, 1208, 1562), (1286, 1845, 1316, 1875), (1348, 1817, 1378, 1847), (1141, 1591, 1171, 1621), (1200, 1706, 1230, 1736), (1134, 1684, 1164, 1714), (1371, 1845, 1401, 1875), (1058, 1693, 1088, 1723), (1065, 1548, 1095, 1578), (1334, 1859, 1364, 1890), (1233, 1624, 1263, 1654), (1295, 1706, 1325, 1736), (1039, 1858, 1069, 1888), (1152, 1789, 1182, 1819), (1219, 1721, 1249, 1752), (1739, 9, 1769, 39), (1812, 67, 1842, 97), (1776, 356, 1806, 386), (1890, 460, 1920, 490), (1776, 73, 1806, 103), (1888, 103, 1918, 133), (1771, 416, 1801, 446), (1743, 51, 1773, 81), (1828, 198, 1858, 228), (1882, 435, 1913, 465), (1835, 455, 1865, 485), (1709, 14, 1739, 44), (1704, 219, 1734, 249), (1729, 32, 1759, 62), (1851, 80, 1881, 110), (1867, 297, 1897, 327), (1750, 81, 1780, 111), (1874, 465, 1904, 495), (1711, 30, 1741, 60), (1730, 65, 1760, 96), (1812, 462, 1842, 492), (1858, 87, 1888, 117), (1645, 451, 1675, 481), (1571, 267, 1601, 297), (1782, 462, 1812, 492), (1741, 274, 1771, 304), (1557, 425, 1587, 455), (1576, 28, 1606, 58), (1826, 96, 1856, 126), (1890, 133, 1920, 163), (1686, 322, 1716, 352), (1511, 214, 1541, 244), (1619, 230, 1649, 260), (1898, 143, 1928, 173), (1592, 172, 1622, 202), (1617, 272, 1647, 303), (1821, 60, 1851, 90), (1615, 165, 1645, 195), (1642, 313, 1672, 343), (1674, 0, 1704, 30), (1861, 2, 1891, 32), (1571, 195, 1601, 225), (1553, 214, 1583, 244), (1603, 99, 1633, 129), (1683, 55, 1713, 85), (1729, 345, 1759, 375), (1741, 464, 1771, 494), (1573, 129, 1603, 159), (1445, 297, 1476, 327), (1603, 166, 1633, 196), (1718, 85, 1748, 115), (1690, 329, 1720, 359), (1835, 88, 1865, 119), (1500, 366, 1530, 396), (1838, 414, 1868, 444), (1716, 138, 1746, 168), (1798, 433, 1828, 464), (1829, 69, 1859, 99), (1806, 425, 1836, 455), (1766, 65, 1796, 96), (1831, 534, 1861, 564), (1851, 534, 1881, 564), (1835, 602, 1865, 632), (1817, 559, 1847, 589), (1847, 571, 1877, 602), (1771, 524, 1801, 554), (1773, 867, 1803, 897), (1856, 605, 1886, 635), (1787, 633, 1817, 663), (1727, 533, 1757, 563), (1801, 487, 1831, 517), (1845, 908, 1875, 938), (1792, 518, 1822, 548), (1897, 640, 1927, 671), (1824, 554, 1854, 584), (1845, 483, 1875, 513), (1755, 832, 1785, 862), (1822, 819, 1852, 849), (1474, 662, 1504, 692), (1831, 649, 1861, 679), (1817, 483, 1847, 513), (1801, 575, 1831, 605), (1750, 580, 1780, 610), (1605, 870, 1635, 901), (1801, 759, 1831, 789), (1776, 656, 1806, 686), (1695, 801, 1725, 832), (1640, 665, 1670, 695), (1743, 876, 1773, 906), (1877, 833, 1907, 863), (1532, 847, 1562, 878), (1898, 821, 1928, 851), (1773, 600, 1803, 630), (1518, 648, 1548, 678), (1684, 616, 1714, 646), (1739, 676, 1769, 706), (1875, 722, 1905, 752), (1479, 626, 1509, 656), (1851, 692, 1881, 722), (1714, 586, 1744, 616), (1716, 908, 1746, 938), (1854, 662, 1884, 692), (1693, 667, 1723, 697), (1874, 488, 1904, 518), (1798, 828, 1828, 858), (1713, 623, 1743, 653), (1882, 932, 1913, 962), (1587, 499, 1617, 529), (1603, 692, 1633, 722), (1760, 635, 1790, 665), (1842, 796, 1872, 826), (1739, 515, 1769, 545), (1445, 812, 1476, 842), (1824, 828, 1854, 858), (1868, 796, 1898, 826), (1536, 803, 1566, 833), (1881, 513, 1911, 543), (1796, 623, 1826, 653), (1721, 492, 1752, 522), (1684, 690, 1714, 720), (1490, 1155, 1520, 1185), (1803, 1166, 1833, 1196), (1813, 1189, 1844, 1219), (1707, 1141, 1737, 1171), (1476, 1306, 1506, 1336), (1801, 1143, 1831, 1173), (1888, 1177, 1918, 1207), (1497, 1148, 1527, 1178), (1453, 1148, 1483, 1178), (1897, 1182, 1927, 1212), (1497, 1417, 1527, 1447), (1826, 1067, 1856, 1097), (1867, 1047, 1897, 1077), (1520, 1148, 1550, 1178), (1601, 1088, 1631, 1118), (1504, 1134, 1534, 1164), (1658, 1100, 1688, 1131), (1859, 1100, 1890, 1131), (1598, 1012, 1628, 1042), (1465, 1323, 1495, 1353), (1635, 1001, 1665, 1031), (1507, 1164, 1537, 1194), (1564, 978, 1594, 1008), (1684, 1132, 1714, 1162), (1629, 1097, 1660, 1127), (1782, 1146, 1812, 1177), (1730, 975, 1760, 1005), (1695, 1145, 1725, 1175), (1757, 1088, 1787, 1118), (1442, 1300, 1472, 1330), (1536, 1139, 1566, 1169), (1622, 1422, 1652, 1453), (1727, 1131, 1757, 1161), (1729, 1054, 1759, 1085), (1767, 1116, 1798, 1146), (1624, 1465, 1654, 1495), (1698, 1511, 1729, 1541), (1753, 1734, 1783, 1764), (1886, 1642, 1916, 1672), (1835, 1606, 1865, 1637), (1734, 1718, 1764, 1748), (1792, 1587, 1822, 1617), (1762, 1557, 1792, 1587), (1750, 1532, 1780, 1562), (1778, 1713, 1808, 1743), (1769, 1776, 1799, 1806), (1716, 1571, 1746, 1601), (1525, 1486, 1555, 1516), (1672, 1792, 1702, 1822), (1725, 1700, 1755, 1730), (1449, 1677, 1479, 1707), (1737, 1605, 1767, 1635), (1592, 1697, 1622, 1727), (1773, 1902, 1803, 1932), (1764, 1612, 1794, 1642), (1608, 1690, 1638, 1720), (1674, 1488, 1704, 1518), (1815, 1771, 1845, 1801), (1897, 1891, 1927, 1921), (1886, 1851, 1916, 1881), (1594, 1628, 1624, 1658), (1674, 1681, 1704, 1711), (1805, 1829, 1835, 1859), (1506, 1552, 1536, 1582), (1713, 1619, 1743, 1649), (1578, 1589, 1608, 1619), (1506, 1707, 1536, 1737), (1714, 1594, 1744, 1624), (1884, 1681, 1914, 1711), (1642, 1541, 1672, 1571), (1500, 1479, 1530, 1509), (1624, 1651, 1654, 1681), (1872, 1812, 1902, 1842), (1859, 1667, 1890, 1697), (1610, 1476, 1640, 1506), (1718, 1649, 1748, 1679), (1773, 1652, 1803, 1683), (1658, 1476, 1688, 1506), (1847, 1771, 1877, 1801), (1750, 1568, 1780, 1598), (1741, 1546, 1771, 1576), (1688, 1780, 1718, 1810), (1488, 1437, 1518, 1467), (1504, 1589, 1534, 1619), (1642, 1868, 1672, 1898), (1824, 1677, 1854, 1707), (1836, 1902, 1867, 1932), (1727, 1884, 1757, 1914), (1709, 1520, 1739, 1550), (1842, 1752, 1872, 1782), (1752, 1891, 1782, 1921), (1750, 1760, 1780, 1790), (1456, 1746, 1486, 1776), (1852, 1730, 1882, 1760), (1697, 1536, 1727, 1566), (1829, 1654, 1859, 1684), (1520, 1805, 1550, 1835), (1629, 1458, 1660, 1488), (1679, 1714, 1709, 1744), (1683, 1550, 1713, 1580), (1806, 1693, 1836, 1723), (1743, 1610, 1773, 1640), (612, 747, 644, 775), (725, 962, 754, 994), (778, 991, 807, 1023), (495, 1453, 524, 1484), (936, 1668, 964, 1700), (978, 343, 1007, 375), (1100, 106, 1132, 134), (1304, 736, 1332, 768), (1260, 1203, 1292, 1231), (1251, 1203, 1279, 1235), (1366, 1157, 1398, 1185), (1882, 180, 1914, 209), (1525, 180, 1557, 209), (1881, 623, 1909, 655), (1642, 506, 1674, 534), (1796, 531, 1824, 563), (1897, 485, 1928, 513), (1842, 593, 1870, 625), (1440, 520, 1468, 552), (1895, 971, 1923, 1003), (1608, 1122, 1637, 1154), (1773, 1168, 1805, 1196), (1509, 1146, 1541, 1175), (1628, 1488, 1656, 1520), (1713, 1734, 1741, 1766), (1534, 1771, 1562, 1803), (1890, 1798, 1921, 1826), (1891, 1739, 1920, 1771), (1704, 1718, 1736, 1746), (1762, 1697, 1794, 1725), (1798, 1647, 1826, 1679), (1507, 1736, 1539, 1764), (1881, 1635, 1909, 1667), (591, 1881, 621, 1909), (1272, 573, 1300, 603), (1150, 506, 1180, 534), (1392, 506, 1422, 534), (1300, 1304, 1330, 1332), (1412, 1415, 1440, 1445), (1251, 1389, 1279, 1419), (1221, 1168, 1251, 1196), (1315, 1684, 1343, 1714), (1415, 1755, 1445, 1783), (1766, 27, 1794, 57), (1755, 117, 1783, 147), (1852, 464, 1882, 492), (1615, 34, 1645, 62), (1667, 531, 1697, 559), (1635, 757, 1665, 786), (1890, 725, 1920, 754), (1438, 1309, 1467, 1339), (1693, 1723, 1723, 1752), (1640, 1461, 1670, 1490), (1691, 1744, 1720, 1775), (1635, 1493, 1665, 1522), (1789, 1755, 1819, 1783), (1897, 1642, 1927, 1670), (1891, 479, 1923, 506), (778, 306, 807, 334)
fibroblast and endothelial: (1898, 51, 1930, 85), (1856, 62, 1888, 96), (1658, 1355, 1691, 1387), (1704, 1207, 1736, 1240), (421, 1035, 453, 1067), (444, 1039, 476, 1070), (455, 1023, 487, 1054), (372, 1599, 403, 1631), (386, 1849, 418, 1881), (421, 1748, 453, 1780), (630, 142, 662, 173), (534, 156, 566, 188), (502, 120, 534, 152), (529, 122, 561, 154), (510, 340, 541, 372), (750, 81, 782, 113), (557, 216, 589, 248), (568, 717, 600, 748), (713, 635, 745, 667), (681, 485, 713, 517), (628, 497, 660, 529), (732, 547, 764, 579), (757, 632, 789, 663), (501, 754, 533, 786), (663, 1131, 695, 1162), (522, 1352, 554, 1384), (616, 1253, 648, 1284), (573, 1062, 605, 1093), (616, 1230, 648, 1261), (642, 1290, 674, 1322), (563, 1150, 594, 1182), (563, 1062, 594, 1093), (504, 1131, 536, 1162), (582, 1468, 614, 1500), (591, 1640, 623, 1672), (695, 1683, 727, 1714), (876, 1677, 908, 1709), (596, 1808, 628, 1840), (557, 1520, 589, 1552), (529, 1621, 561, 1652), (1346, 1373, 1378, 1405), (1329, 1339, 1361, 1371), (1299, 1230, 1330, 1261), (1346, 1284, 1378, 1316), (1339, 1368, 1371, 1399), (1376, 1380, 1408, 1412), (1099, 1235, 1131, 1267), (1088, 1263, 1120, 1295), (1150, 1279, 1182, 1311), (1389, 1387, 1421, 1419), (1412, 1247, 1444, 1279), (964, 1253, 996, 1284), (1408, 1293, 1440, 1325), (989, 1261, 1021, 1293), (1146, 1240, 1178, 1272), (1171, 1228, 1203, 1260), (1115, 1230, 1146, 1261), (1007, 1247, 1039, 1279), (1346, 1384, 1378, 1415), (1141, 1223, 1173, 1254), (1891, 60, 1923, 92), (1893, 550, 1925, 582), (1879, 586, 1911, 617), (1467, 1196, 1499, 1228), (1591, 1353, 1622, 1385), (1727, 1359, 1759, 1391), (1490, 1348, 1522, 1380), (1838, 1355, 1870, 1387), (1520, 1391, 1552, 1422), (1808, 1380, 1840, 1412), (1445, 1382, 1477, 1414), (1870, 1192, 1902, 1224), (1773, 1288, 1805, 1320), (1760, 1279, 1792, 1311), (1718, 1362, 1750, 1394), (1592, 1389, 1624, 1421), (1438, 1391, 1470, 1422), (1477, 1355, 1509, 1387), (1520, 1345, 1552, 1376), (1456, 1215, 1488, 1247), (1647, 1263, 1679, 1295), (1773, 1187, 1805, 1219), (1624, 1399, 1656, 1431), (1626, 1279, 1658, 1311), (1766, 1309, 1798, 1341), (1520, 1369, 1552, 1401), (1718, 1293, 1750, 1325), (1867, 1258, 1898, 1290), (1767, 1534, 1799, 1566), (1684, 1461, 1716, 1493), (1672, 1468, 1704, 1500), (1840, 1587, 1872, 1619), (1822, 1589, 1854, 1621), (1461, 1295, 1491, 1329), (437, 1132, 469, 1162), (442, 1237, 472, 1269), (460, 1415, 490, 1447), (336, 1279, 366, 1311), (386, 1200, 418, 1230), (423, 1463, 455, 1493), (326, 1644, 356, 1675), (398, 1592, 428, 1624), (428, 1874, 460, 1904), (464, 1484, 495, 1514), (345, 1453, 377, 1483), (533, 177, 564, 207), (908, 53, 938, 85), (550, 154, 582, 184), (591, 375, 621, 407), (644, 317, 676, 347), (701, 2, 731, 34), (570, 320, 600, 352), (603, 73, 635, 103), (729, 451, 761, 481), (678, 301, 708, 333), (844, 152, 874, 184), (529, 453, 559, 485), (681, 110, 713, 140), (865, 9, 895, 41), (741, 295, 771, 327), (591, 127, 621, 159), (908, 150, 938, 182), (663, 349, 694, 380), (690, 276, 722, 306), (637, 127, 669, 157), (738, 303, 768, 334), (533, 166, 563, 198), (543, 161, 573, 193), (573, 458, 603, 490), (575, 885, 605, 916), (605, 534, 635, 566), (525, 603, 556, 635), (651, 538, 681, 570), (669, 598, 699, 630), (740, 602, 770, 633), (626, 828, 656, 860), (534, 722, 566, 752), (784, 720, 814, 752), (518, 531, 550, 561), (538, 886, 570, 916), (665, 501, 695, 533), (671, 534, 701, 566), (593, 538, 625, 568), (616, 593, 646, 625), (497, 1350, 529, 1380), (481, 1341, 511, 1373), (568, 1274, 598, 1306), (564, 1212, 596, 1242), (589, 973, 619, 1005), (609, 1272, 639, 1304), (621, 1180, 651, 1212), (479, 1017, 511, 1047), (646, 1263, 678, 1293), (775, 970, 807, 1000), (502, 1299, 533, 1330), (614, 1261, 644, 1293), (610, 1247, 640, 1279), (607, 1205, 637, 1237), (644, 1279, 676, 1309), (499, 1334, 531, 1364), (563, 1203, 593, 1235), (656, 1127, 688, 1157), (479, 1353, 510, 1385), (501, 1214, 533, 1244), (554, 1233, 584, 1265), (504, 1737, 536, 1767), (481, 1679, 513, 1709), (479, 1716, 511, 1746), (554, 1688, 586, 1718), (637, 1852, 667, 1884), (637, 1787, 667, 1819), (573, 1799, 605, 1829), (690, 1884, 722, 1914), (704, 1560, 736, 1591), (761, 1640, 791, 1672), (513, 1759, 545, 1789), (1150, 816, 1182, 846), (1152, 1224, 1182, 1256), (1139, 1214, 1169, 1246), (1189, 1251, 1221, 1281), (1267, 1247, 1297, 1279), (1300, 1286, 1332, 1316), (1355, 1265, 1385, 1297), (1161, 1279, 1192, 1309), (1026, 1286, 1058, 1316), (1028, 1256, 1060, 1286), (1090, 1240, 1122, 1270), (1371, 1373, 1401, 1405), (1332, 1371, 1362, 1403), (1369, 1214, 1399, 1246), (1357, 1215, 1389, 1246), (1242, 1226, 1274, 1256), (1040, 1246, 1072, 1276), (1157, 1217, 1189, 1247), (1297, 1242, 1327, 1274), (1099, 1267, 1131, 1297), (1302, 1219, 1332, 1251), (1056, 1219, 1088, 1249), (1003, 1256, 1033, 1288), (1254, 1224, 1284, 1256), (985, 1244, 1016, 1276), (1003, 1240, 1035, 1270), (1159, 1231, 1191, 1261), (1309, 1226, 1339, 1258), (1272, 1240, 1302, 1272), (1102, 1279, 1132, 1311), (1031, 1269, 1062, 1300), (1348, 1346, 1378, 1378), (1357, 1352, 1389, 1382), (1410, 1483, 1442, 1513), (1819, 34, 1849, 65), (1895, 69, 1927, 99), (1833, 18, 1865, 48), (1890, 28, 1920, 60), (1893, 511, 1923, 543), (1868, 559, 1898, 591), (1835, 1364, 1865, 1396), (1621, 1288, 1651, 1320), (1835, 1205, 1865, 1237), (1713, 1307, 1744, 1338), (1833, 1376, 1865, 1407), (1488, 1364, 1518, 1396), (1812, 1272, 1842, 1304), (1438, 1194, 1470, 1224), (1589, 1405, 1619, 1437), (1670, 1355, 1702, 1385), (1760, 1362, 1792, 1392), (1773, 1318, 1803, 1350), (1679, 1352, 1711, 1382), (1633, 1276, 1665, 1306), (1527, 1191, 1557, 1223), (1872, 1267, 1902, 1299), (1656, 1330, 1688, 1361), (1622, 1357, 1654, 1387), (1706, 1290, 1737, 1320), (1672, 1297, 1702, 1329), (1550, 1207, 1582, 1237), (1736, 1293, 1766, 1325), (1507, 1189, 1539, 1219), (1635, 1378, 1667, 1408), (1782, 1184, 1813, 1214), (1668, 1332, 1698, 1364), (1476, 1334, 1506, 1366), (1702, 1302, 1734, 1332), (1789, 1346, 1821, 1376), (1895, 1270, 1927, 1300), (1576, 1405, 1608, 1435), (1550, 1322, 1582, 1352), (1684, 1279, 1714, 1311), (1695, 1299, 1727, 1329), (1438, 1258, 1468, 1290), (1764, 1297, 1794, 1329), (1506, 1277, 1537, 1307), (1746, 1295, 1778, 1325), (1560, 1371, 1592, 1401), (1513, 1387, 1545, 1417), (1829, 1357, 1859, 1389), (1440, 1375, 1472, 1405), (1564, 1414, 1594, 1445), (1734, 1352, 1764, 1384), (1746, 1362, 1778, 1392), (1495, 1261, 1527, 1292), (1603, 1175, 1633, 1207), (1644, 1357, 1675, 1387), (1631, 1348, 1661, 1380), (1851, 1201, 1882, 1231), (1484, 1307, 1514, 1339), (1511, 1375, 1543, 1405), (1893, 1484, 1925, 1514), (1833, 1444, 1865, 1474), (1867, 1573, 1897, 1605), (1808, 1568, 1840, 1598), (1867, 1461, 1898, 1491), (1872, 1545, 1902, 1576), (1872, 1610, 1902, 1642), (1886, 1541, 1918, 1571), (1881, 1548, 1913, 1578), (1741, 1507, 1771, 1539), (1663, 1465, 1695, 1495), (1898, 1541, 1928, 1573), (1884, 1486, 1914, 1518), (430, 911, 460, 941), (359, 1355, 389, 1385), (350, 1380, 380, 1410), (451, 1031, 481, 1062), (356, 1562, 386, 1592), (382, 1792, 412, 1822), (423, 1606, 453, 1637), (396, 1583, 426, 1614), (456, 1440, 487, 1470), (433, 1525, 464, 1555), (439, 1541, 469, 1571), (616, 143, 646, 173), (506, 161, 536, 191), (637, 136, 667, 166), (759, 11, 789, 41), (722, 191, 752, 221), (612, 218, 642, 248), (662, 58, 692, 88), (531, 794, 561, 824), (582, 545, 612, 575), (582, 589, 612, 619), (734, 504, 764, 534), (603, 807, 633, 837), (671, 614, 701, 644), (490, 819, 520, 849), (497, 1373, 527, 1403), (584, 1219, 614, 1249), (655, 1169, 685, 1200), (614, 1240, 644, 1270), (548, 1058, 579, 1088), (504, 1325, 534, 1355), (520, 1201, 550, 1231), (642, 961, 672, 991), (563, 1191, 593, 1221), (593, 1658, 623, 1688), (529, 1714, 559, 1744), (635, 1608, 665, 1638), (770, 1624, 800, 1654), (504, 1760, 534, 1790), (577, 1750, 607, 1780), (508, 1557, 538, 1587), (1037, 55, 1067, 85), (1336, 1258, 1366, 1288), (1401, 1240, 1431, 1270), (1136, 1246, 1166, 1276), (1081, 1215, 1111, 1246), (1359, 1242, 1389, 1272), (1251, 1249, 1281, 1279), (1062, 1242, 1092, 1272), (1392, 1244, 1422, 1274), (1336, 1385, 1366, 1415), (1380, 1371, 1410, 1401), (1122, 1223, 1152, 1253), (1014, 1238, 1044, 1269), (1421, 1254, 1451, 1284), (1293, 1283, 1323, 1313), (1208, 1247, 1238, 1277), (977, 1258, 1007, 1288), (1290, 1226, 1320, 1256), (1385, 1192, 1415, 1223), (1148, 1272, 1178, 1302), (1422, 1357, 1453, 1387), (1897, 25, 1927, 55), (1891, 50, 1921, 80), (1812, 28, 1842, 58), (1879, 538, 1909, 568), (1596, 1200, 1626, 1230), (1789, 1325, 1819, 1355), (1658, 1267, 1688, 1297), (1490, 1274, 1520, 1304), (1504, 1323, 1534, 1353), (1798, 1224, 1828, 1254), (1585, 1371, 1615, 1401), (1468, 1357, 1499, 1387), (1546, 1249, 1576, 1279), (1737, 1182, 1767, 1212), (1583, 1231, 1614, 1261), (1649, 1422, 1679, 1453), (1536, 1313, 1566, 1343), (1743, 1159, 1773, 1189), (1714, 1247, 1744, 1277), (1900, 1361, 1930, 1391), (1543, 1203, 1573, 1233), (1658, 1279, 1688, 1309), (1437, 1422, 1467, 1453), (1654, 1316, 1684, 1346), (1629, 1166, 1660, 1196), (1663, 973, 1693, 1003), (1884, 1253, 1914, 1283), (1741, 1171, 1771, 1201), (1884, 1534, 1914, 1564), (1821, 1483, 1851, 1513), (1776, 1560, 1806, 1591), (1890, 1550, 1920, 1580), (632, 564, 660, 596), (506, 1746, 534, 1778), (1484, 1387, 1516, 1415), (1652, 1336, 1681, 1368), (1062, 1272, 1090, 1302)
lymphocyte: (582, 379, 612, 410), (513, 1030, 543, 1062), (1152, 1261, 1184, 1292), (1345, 1357, 1376, 1387), (1364, 1369, 1394, 1401), (1224, 1288, 1254, 1320), (1039, 1284, 1070, 1315), (1847, 711, 1879, 741), (1539, 1713, 1569, 1744), (1362, 1359, 1392, 1389), (1047, 1279, 1077, 1309), (1106, 1231, 1136, 1261), (1506, 1382, 1536, 1412), (1550, 1707, 1580, 1737)
